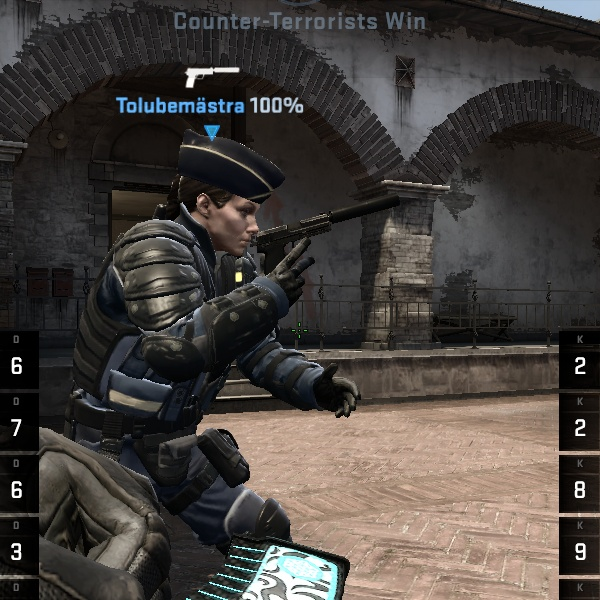ct_body: (19, 138, 380, 577)
ct_head: (154, 139, 302, 262)
